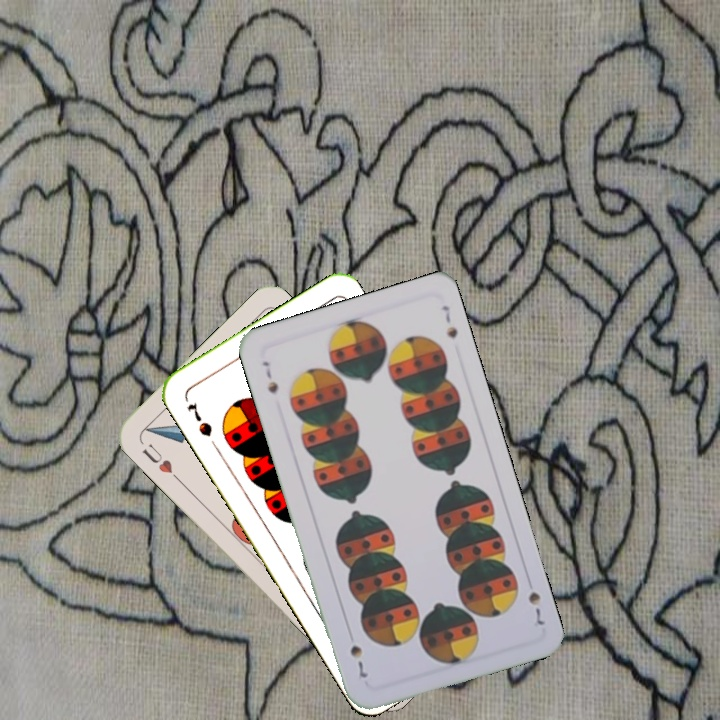HU: (138, 439, 183, 484)
S7: (183, 398, 215, 440), (524, 587, 547, 631), (258, 357, 281, 397)
